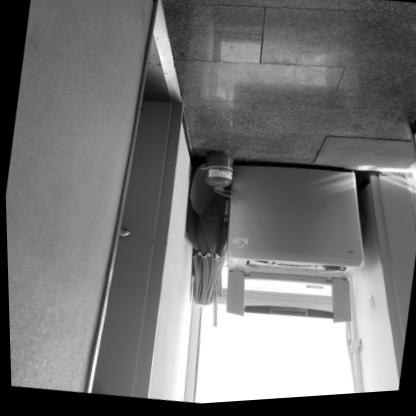FE: (199, 149, 234, 201)
